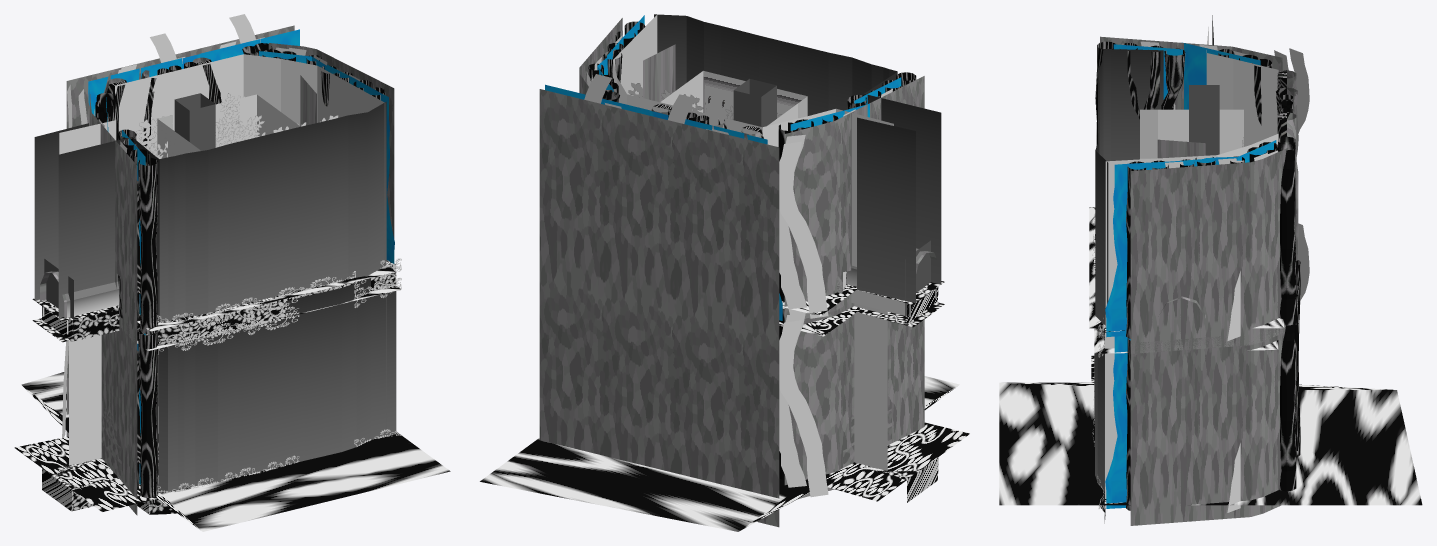
Rendered from mri_17.dae.
3 views of the same model, side by side, from view 1: azimuth 30°, elevation 25°; view 2: azimuth 150°, elevation 25°; view 3: azimuth 270°, elevation 25° (orthographic). The views are drawn at different scales.
Visible parts, largest first — view 1: A_f2_yuka_kabe_oku, A_f1_yuka_kabe_oku, A_f1yuka, A_f2yuka_kabe_mae, S_f1_oku, S_oku_01_part1, S_oku, polySurface124_q00054, A_f1yuka_kabe_mae, A_hako_hako, S_oku_04_part1, polySurface156 (+15 smaller); view 2: S_oku_01_part1, S_f1_oku, A_f2_yuka_kabe_oku, A_f1yuka, A_f1yuka_kabe_mae, S_oku_02_part1, S_f1_oku_02_part1, A_f2yuka_kabe_mae, A_hako_hako, S_oku, A_f2, S_oku_04_part1 (+8 smaller); view 3: S_f1_oku, S_oku_01_part1, A_f1yuka, S_oku, A_f2_yuka_kabe_oku, A_f2yuka_kabe_mae, S_oku_04_part1, A_hako_hako, S_f1_oku_04_part1, S_oku_02_part1, A_f2, A_f1_yuka_kabe_oku (+4 smaller).
Boxes of the visible parts, x1,y1,x2,y2 form: A_f2_yuka_kabe_oku: (34,101,386,322); A_f1_yuka_kabe_oku: (156,278,396,491); A_f1yuka: (14,372,450,531); A_f2yuka_kabe_mae: (59,54,385,265); S_f1_oku: (66,316,157,515); S_oku_01_part1: (66,25,394,345); S_oku: (95,43,385,333); polySurface124_q00054: (42,265,396,344); A_f1yuka_kabe_mae: (69,274,386,465); A_hako_hako: (157,94,300,158); S_oku_04_part1: (106,39,394,314); polySurface156: (135,93,338,158); S_oku_01_part1: (539,18,924,337); S_f1_oku: (539,279,924,527); A_f2_yuka_kabe_oku: (654,14,941,302); A_f1yuka: (480,376,969,531); A_f1yuka_kabe_mae: (782,303,887,470); S_oku_02_part1: (586,35,892,318); S_f1_oku_02_part1: (779,313,828,497); A_f2yuka_kabe_mae: (613,14,893,266); A_hako_hako: (660,71,807,125); S_oku: (588,21,916,301); A_f2: (733,78,776,127); S_oku_04_part1: (597,15,901,130); S_f1_oku: (1126,260,1300,525); S_oku_01_part1: (1100,36,1288,353); A_f1yuka: (999,355,1422,505); S_oku: (1095,41,1298,338); A_f2_yuka_kabe_oku: (1095,15,1213,325); A_f2yuka_kabe_mae: (1105,27,1278,326); S_oku_04_part1: (1105,42,1276,337); A_hako_hako: (1140,109,1243,159); S_f1_oku_04_part1: (1105,336,1130,508); S_oku_02_part1: (1140,41,1309,340); A_f2: (1189,85,1219,155); A_f1_yuka_kabe_oku: (1094,328,1104,500).
Bounding box in the file's own units: 61.03 × 70.64 × 69.16.
